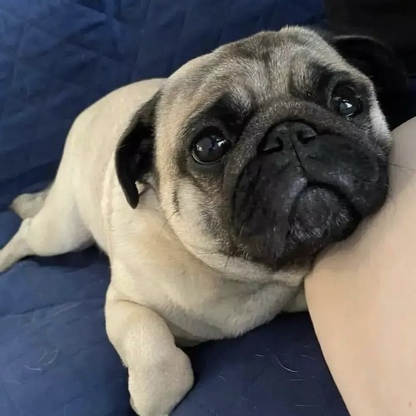Pug: (1, 16, 402, 416)
